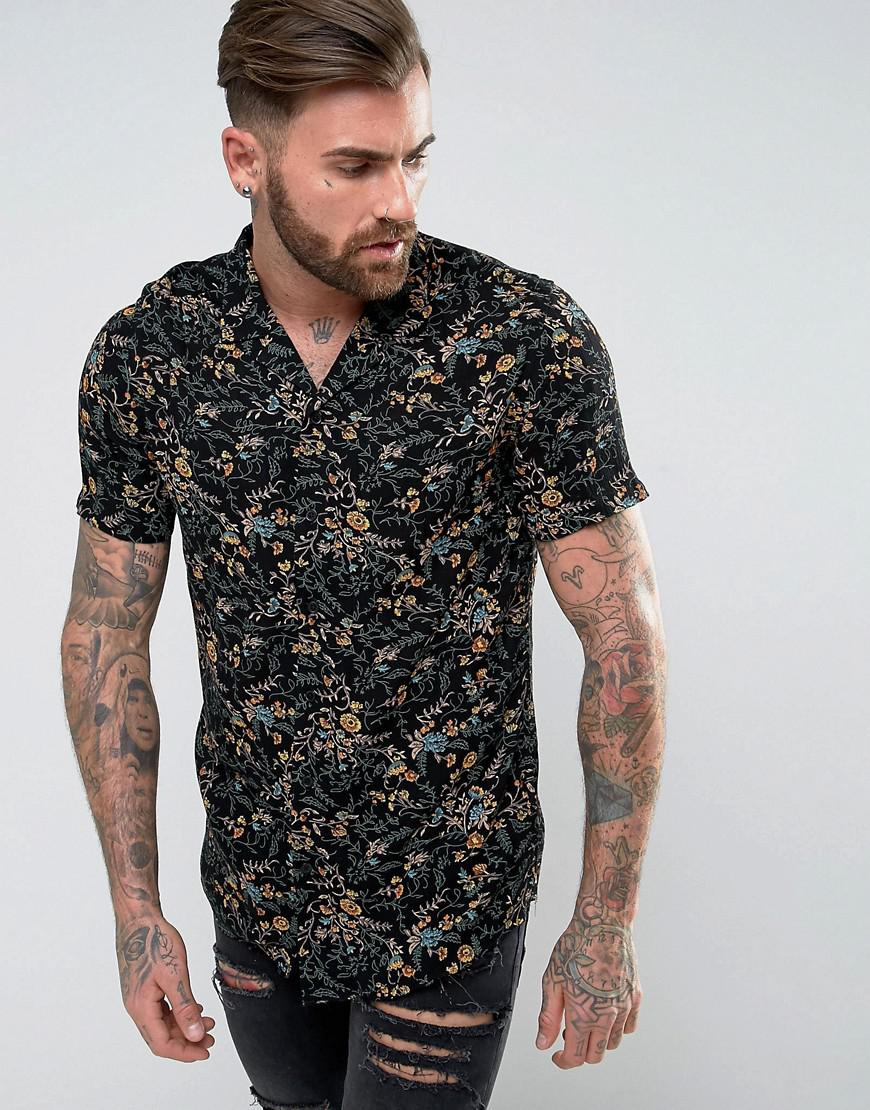teeshirt: (68, 225, 652, 1005)
